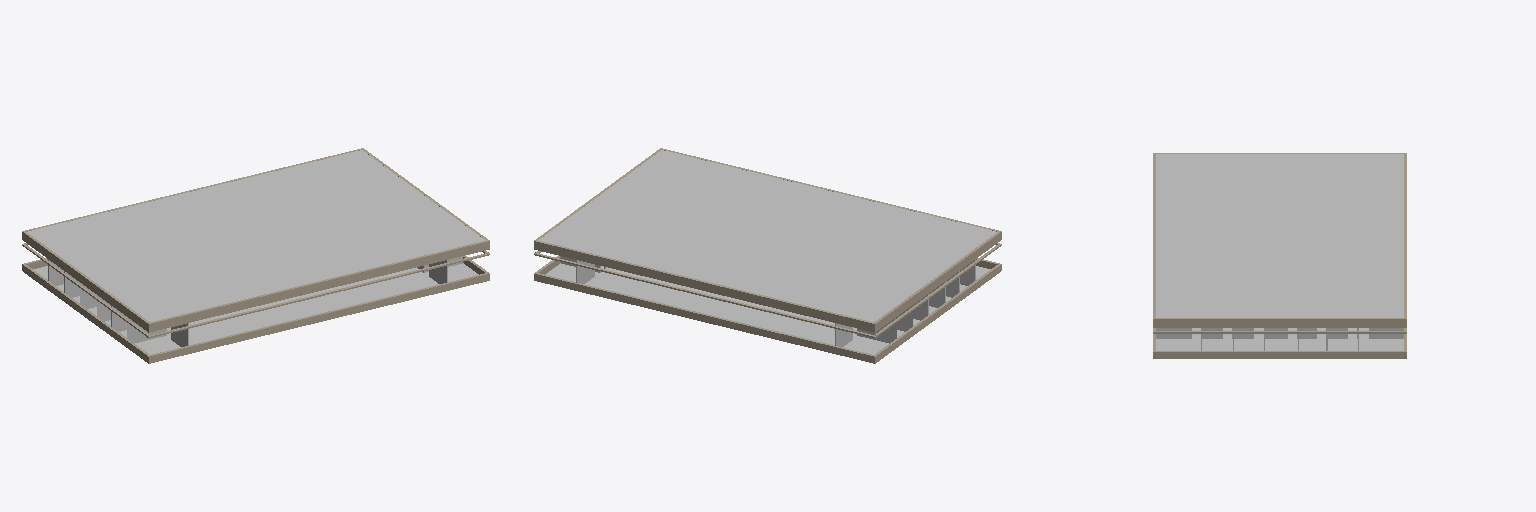
The model's file is Floor11ft.obj.
3 views of the same model, side by side, from view 1: azimuth 30°, elevation 25°; view 2: azimuth 150°, elevation 25°; view 3: azimuth 270°, elevation 25° (orthographic).
Parts seen in each view (by area): view 1: Floor11ft.obj; view 2: Floor11ft.obj; view 3: Floor11ft.obj.
Boxes of the visible parts, box(x1,y1,x2,y2) form: Floor11ft.obj: box(22, 148, 489, 363); Floor11ft.obj: box(534, 148, 1001, 363); Floor11ft.obj: box(1153, 153, 1406, 358).
Bounding box in the file's own units: 38.73 × 4.3 × 24.94.